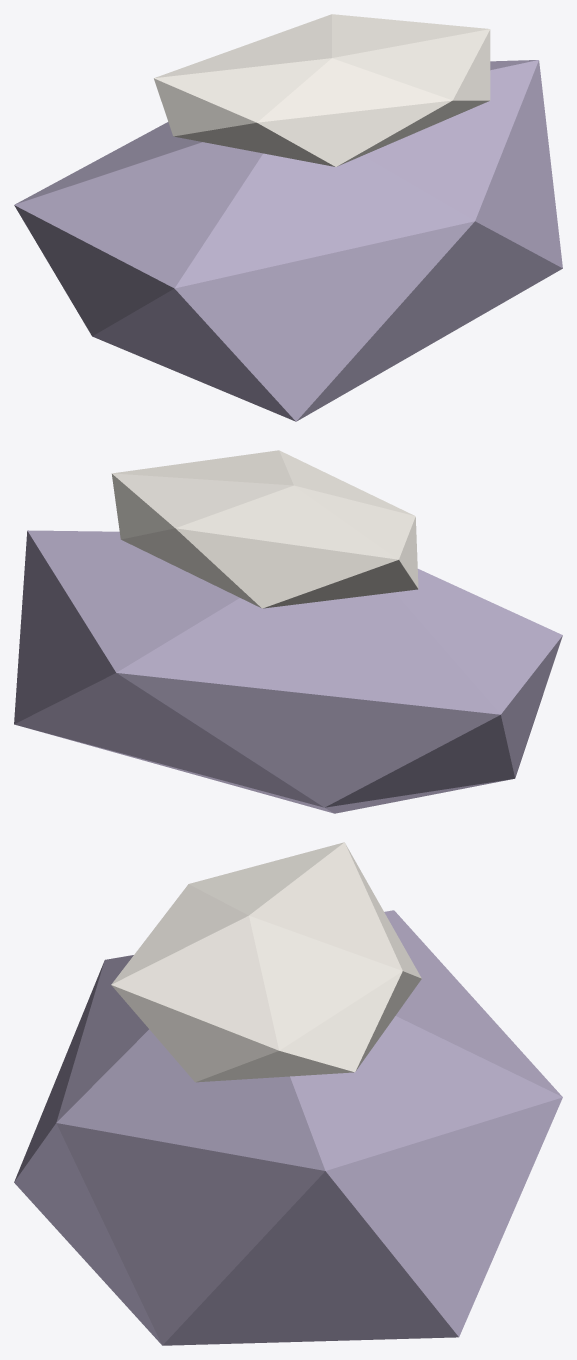
The model's file is sb_rock.glb.
3 renders of one model, top to bottom at view 1: azimuth 30°, elevation 25°; view 2: azimuth 150°, elevation 25°; view 3: azimuth 270°, elevation 25°, orthographic. The views are drawn at different scales.
Visible parts, largest first — view 1: rock; view 2: rock; view 3: rock.
Part boxes in pixels (<box>): rock: <box>14,14,562,421</box>; rock: <box>14,450,562,813</box>; rock: <box>14,842,562,1345</box>.
Bounding box in the file's own units: 0.8323 × 0.5256 × 0.6102.
